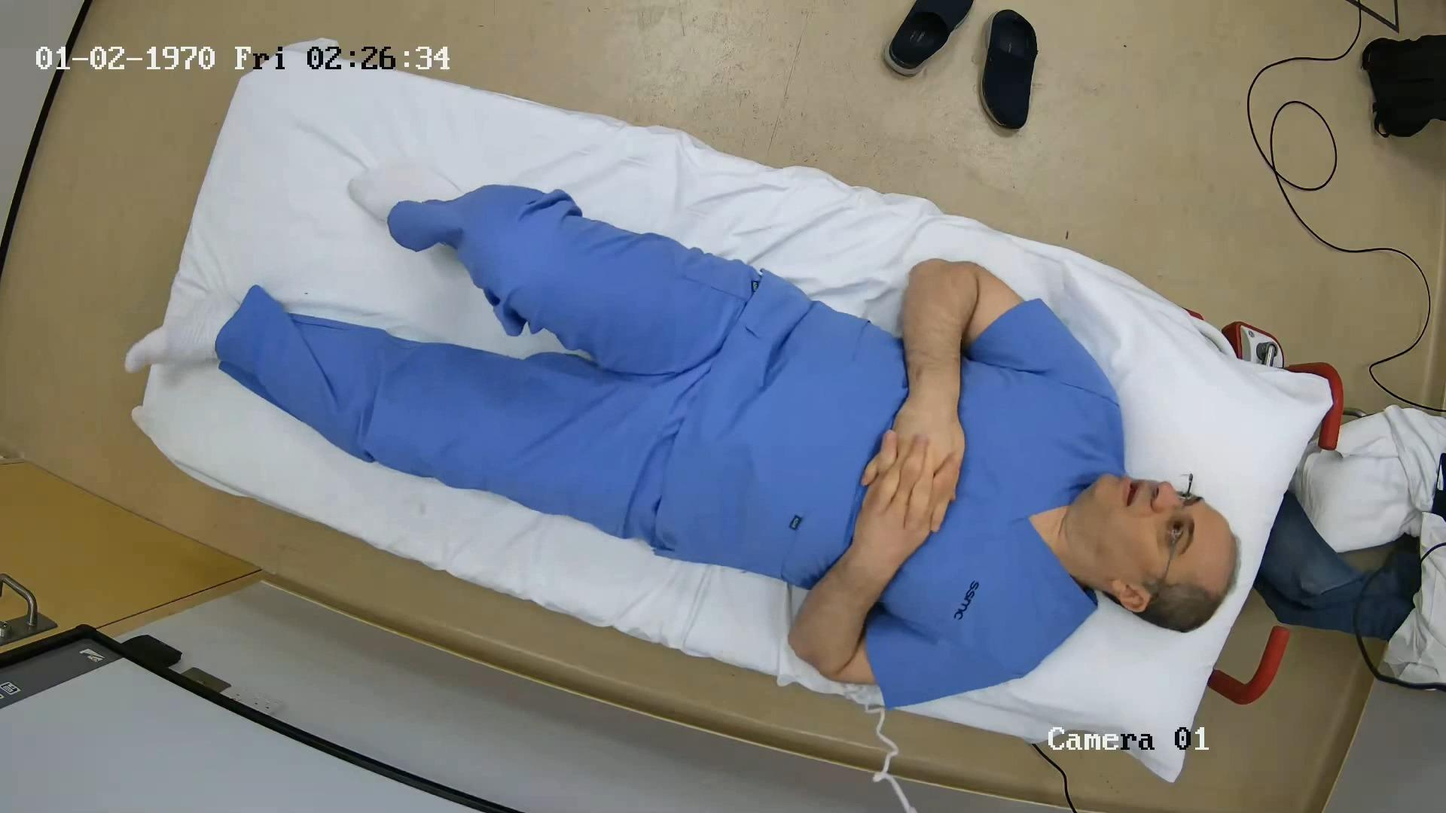bed: (133, 62, 1343, 783)
patient: (215, 186, 1237, 705)
